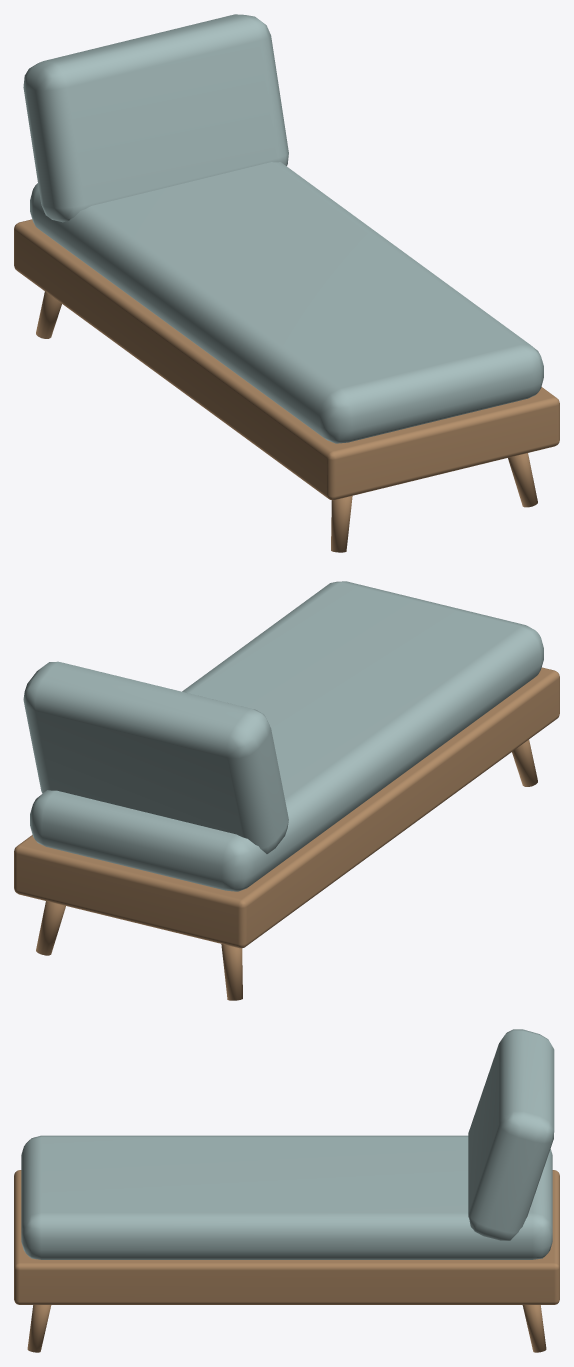
Rendered from atelier-chaise-lounge.glb.
3 renders of one model, top to bottom at view 1: azimuth 30°, elevation 25°; view 2: azimuth 150°, elevation 25°; view 3: azimuth 270°, elevation 25°, orthographic. The views are drawn at different scales.
Visible parts, largest first — view 1: fabric.007, legs.007; view 2: fabric.007, legs.007; view 3: fabric.007, legs.007.
Boxes of the visible parts, x1,y1,x2,y2 form: fabric.007: (23, 14, 543, 443); legs.007: (14, 219, 559, 552); fabric.007: (23, 581, 543, 891); legs.007: (14, 667, 559, 1000); fabric.007: (21, 1029, 554, 1259); legs.007: (14, 1170, 559, 1352).
Bounding box in the file's own units: 0.8 × 0.9248 × 1.9.
